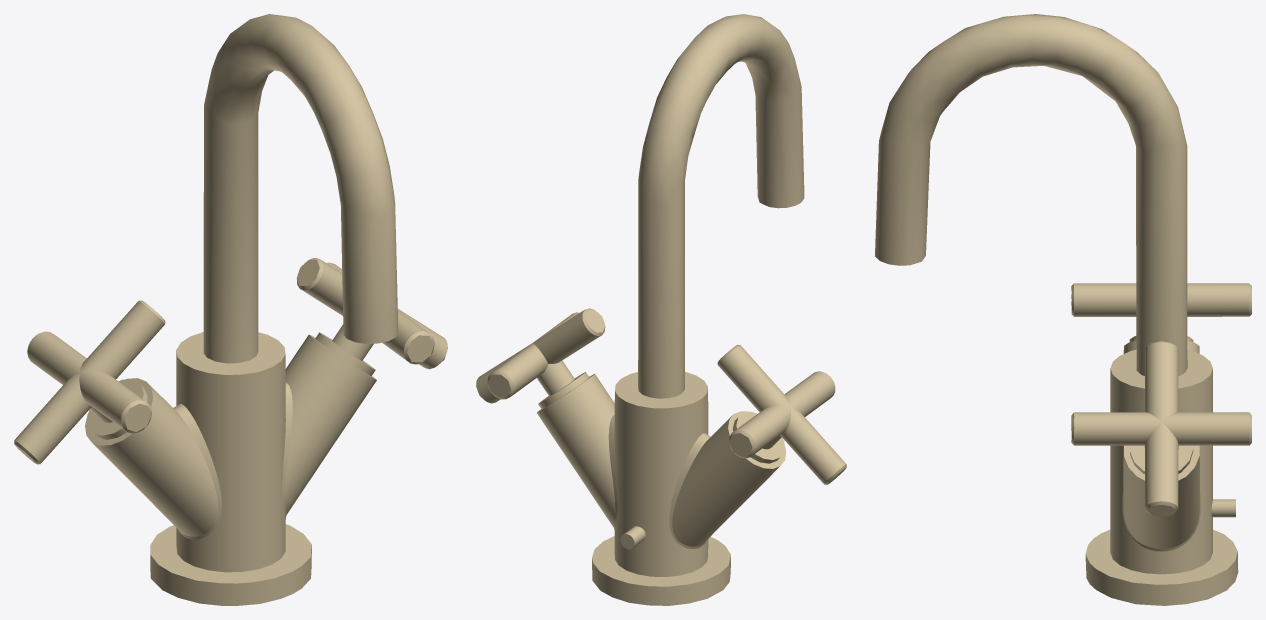
3 views of the same model, side by side, from view 1: azimuth 30°, elevation 25°; view 2: azimuth 150°, elevation 25°; view 3: azimuth 270°, elevation 25° (orthographic). The views are drawn at different scales.
Parts seen in each view (by area): view 1: L_d3dcbb2b_4c44_437a_949d_012641e3e39b_I7, L_55a1c5ce_0cc1_4508_a5f5_509462fce564_I3, L_371058ef_0f02_43a9_b4b8_7bc3ba85c9c8_I1, L_d9a1821b_6350_4af8_81e9_f33a4fe3cdb1_I8, L_aebabbb1_322c_48e3_8798_877ce0681c3e_I4, L_b1cc2468_1b43_49ec_a76c_5935a66f385f_I6, L_40292fc8_8226_4e38_a911_84e616a1447a_I2; view 2: L_d3dcbb2b_4c44_437a_949d_012641e3e39b_I7, L_55a1c5ce_0cc1_4508_a5f5_509462fce564_I3, L_371058ef_0f02_43a9_b4b8_7bc3ba85c9c8_I1, L_aebabbb1_322c_48e3_8798_877ce0681c3e_I4, L_d9a1821b_6350_4af8_81e9_f33a4fe3cdb1_I8, L_b1cc2468_1b43_49ec_a76c_5935a66f385f_I6; view 3: L_55a1c5ce_0cc1_4508_a5f5_509462fce564_I3, L_d3dcbb2b_4c44_437a_949d_012641e3e39b_I7, L_aebabbb1_322c_48e3_8798_877ce0681c3e_I4, L_d9a1821b_6350_4af8_81e9_f33a4fe3cdb1_I8, L_371058ef_0f02_43a9_b4b8_7bc3ba85c9c8_I1, L_40292fc8_8226_4e38_a911_84e616a1447a_I2.
Boxes of the visible parts, box(x1,y1,x2,y2) form: L_d3dcbb2b_4c44_437a_949d_012641e3e39b_I7: box(85, 332, 376, 572); L_55a1c5ce_0cc1_4508_a5f5_509462fce564_I3: box(203, 14, 398, 363); L_371058ef_0f02_43a9_b4b8_7bc3ba85c9c8_I1: box(14, 300, 165, 464); L_d9a1821b_6350_4af8_81e9_f33a4fe3cdb1_I8: box(150, 524, 311, 605); L_aebabbb1_322c_48e3_8798_877ce0681c3e_I4: box(296, 258, 447, 369); L_b1cc2468_1b43_49ec_a76c_5935a66f385f_I6: box(87, 379, 147, 439); L_40292fc8_8226_4e38_a911_84e616a1447a_I2: box(315, 332, 375, 376); L_d3dcbb2b_4c44_437a_949d_012641e3e39b_I7: box(537, 371, 786, 576); L_55a1c5ce_0cc1_4508_a5f5_509462fce564_I3: box(638, 14, 804, 398); L_371058ef_0f02_43a9_b4b8_7bc3ba85c9c8_I1: box(717, 344, 846, 484); L_aebabbb1_322c_48e3_8798_877ce0681c3e_I4: box(476, 308, 605, 403); L_d9a1821b_6350_4af8_81e9_f33a4fe3cdb1_I8: box(592, 536, 730, 605); L_b1cc2468_1b43_49ec_a76c_5935a66f385f_I6: box(732, 412, 784, 463); L_55a1c5ce_0cc1_4508_a5f5_509462fce564_I3: box(875, 14, 1187, 376); L_d3dcbb2b_4c44_437a_949d_012641e3e39b_I7: box(1110, 340, 1212, 574); L_aebabbb1_322c_48e3_8798_877ce0681c3e_I4: box(1071, 341, 1251, 516); L_d9a1821b_6350_4af8_81e9_f33a4fe3cdb1_I8: box(1085, 529, 1238, 605); L_371058ef_0f02_43a9_b4b8_7bc3ba85c9c8_I1: box(1071, 283, 1251, 316); L_40292fc8_8226_4e38_a911_84e616a1447a_I2: box(1130, 445, 1193, 474).
Size of the model in its own units: 0.1794 by 0.2386 by 0.1463.
